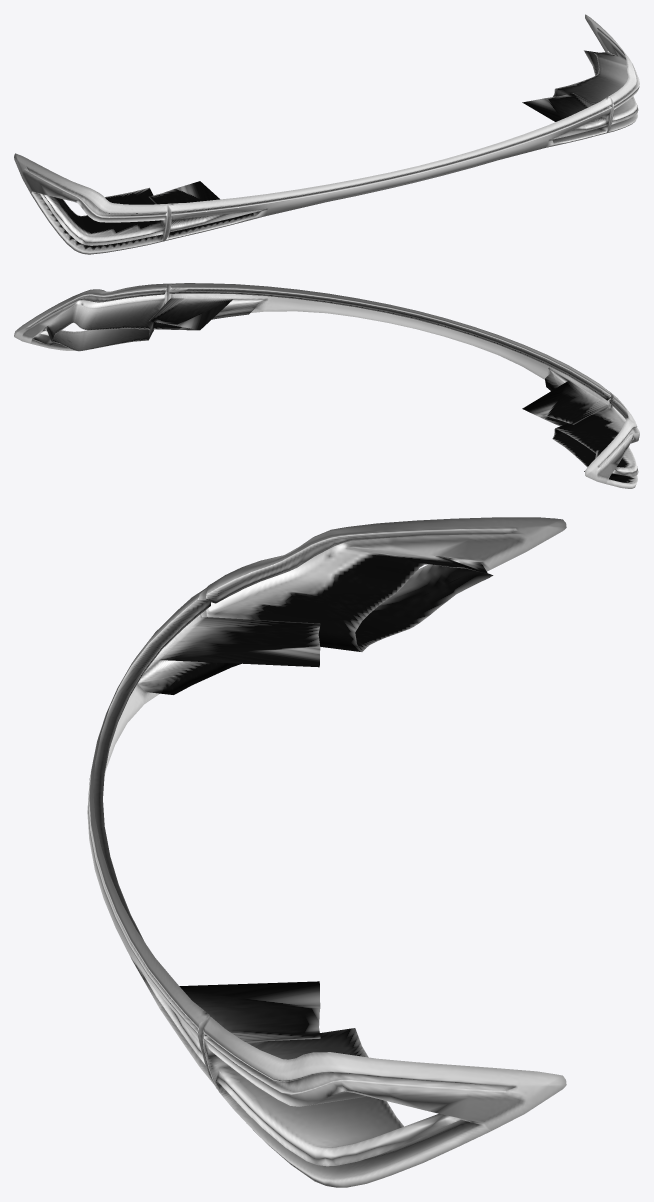
File: TL_red_part.glb
3 views of the same model, one above another, from view 1: azimuth 30°, elevation 25°; view 2: azimuth 150°, elevation 25°; view 3: azimuth 270°, elevation 25° (orthographic). The views are drawn at different scales.
Visible parts, largest first — view 1: TL_red_part; view 2: TL_red_part; view 3: TL_red_part.
Boxes of the visible parts, left/top/right/bottom form: TL_red_part: left=14, top=14, right=639, bottom=254; TL_red_part: left=14, top=283, right=639, bottom=488; TL_red_part: left=87, top=517, right=566, bottom=1187.
Bounding box in the file's own units: 1.51 × 0.1579 × 0.5433.
1 material, 1 textured.
